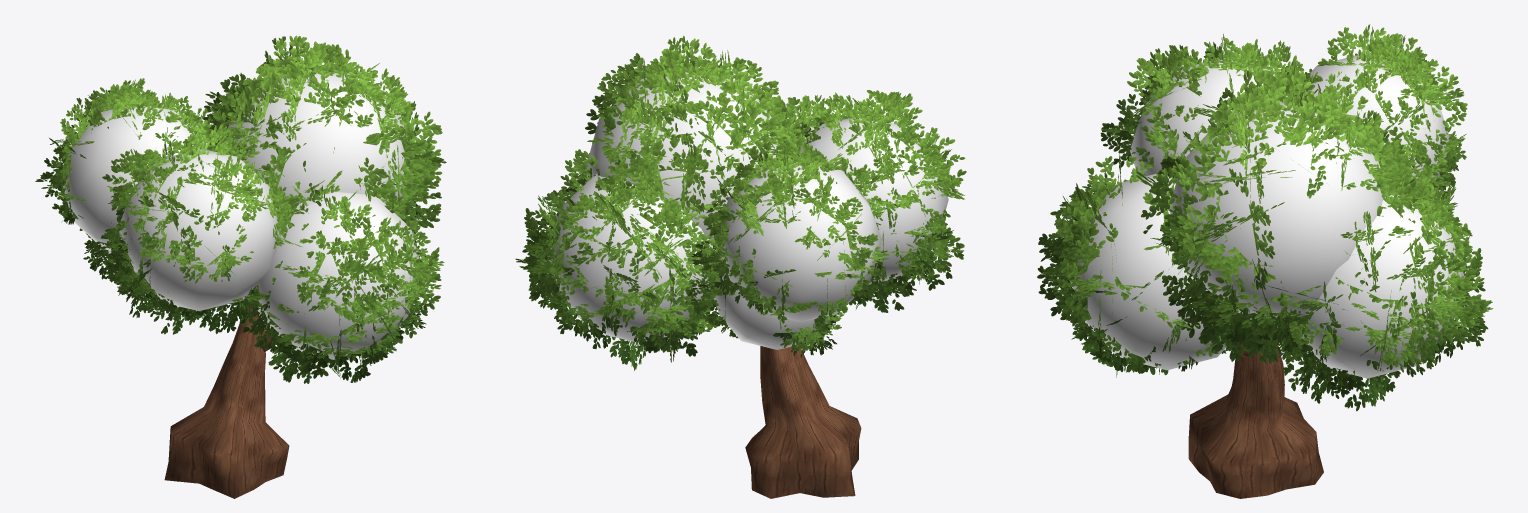
The model's file is cardtree_71924.gltf.
3 renders of one model, left to right at view 1: azimuth 30°, elevation 25°; view 2: azimuth 150°, elevation 25°; view 3: azimuth 270°, elevation 25°, orthographic. The views are drawn at different scales.
Parts seen in each view (by area): view 1: cardtree_71924_leaves_LOD0, cardtree_71924_shadow_LOD0, cardtree_71924_trunk_LOD0; view 2: cardtree_71924_leaves_LOD0, cardtree_71924_shadow_LOD0, cardtree_71924_trunk_LOD0; view 3: cardtree_71924_leaves_LOD0, cardtree_71924_shadow_LOD0, cardtree_71924_trunk_LOD0.
Boxes of the visible parts, x1=… form: cardtree_71924_leaves_LOD0: x1=35, y1=35, x2=446, y2=383; cardtree_71924_shadow_LOD0: x1=63, y1=71, x2=420, y2=359; cardtree_71924_trunk_LOD0: x1=164, y1=306, x2=289, y2=498; cardtree_71924_leaves_LOD0: x1=515, y1=35, x2=966, y2=370; cardtree_71924_shadow_LOD0: x1=547, y1=72, x2=948, y2=349; cardtree_71924_trunk_LOD0: x1=745, y1=346, x2=861, y2=498; cardtree_71924_leaves_LOD0: x1=1037, y1=24, x2=1493, y2=411; cardtree_71924_shadow_LOD0: x1=1070, y1=55, x2=1464, y2=378; cardtree_71924_trunk_LOD0: x1=1188, y1=344, x2=1323, y2=498.
Size of what is drawn, in the model's own units: 11.77 by 12.52 by 12.08.
3 materials, 2 textured.
